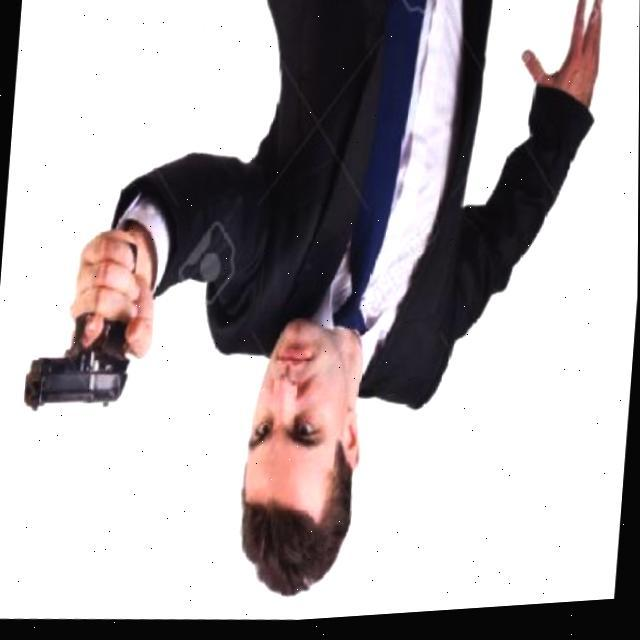gun: (22, 234, 144, 416)
